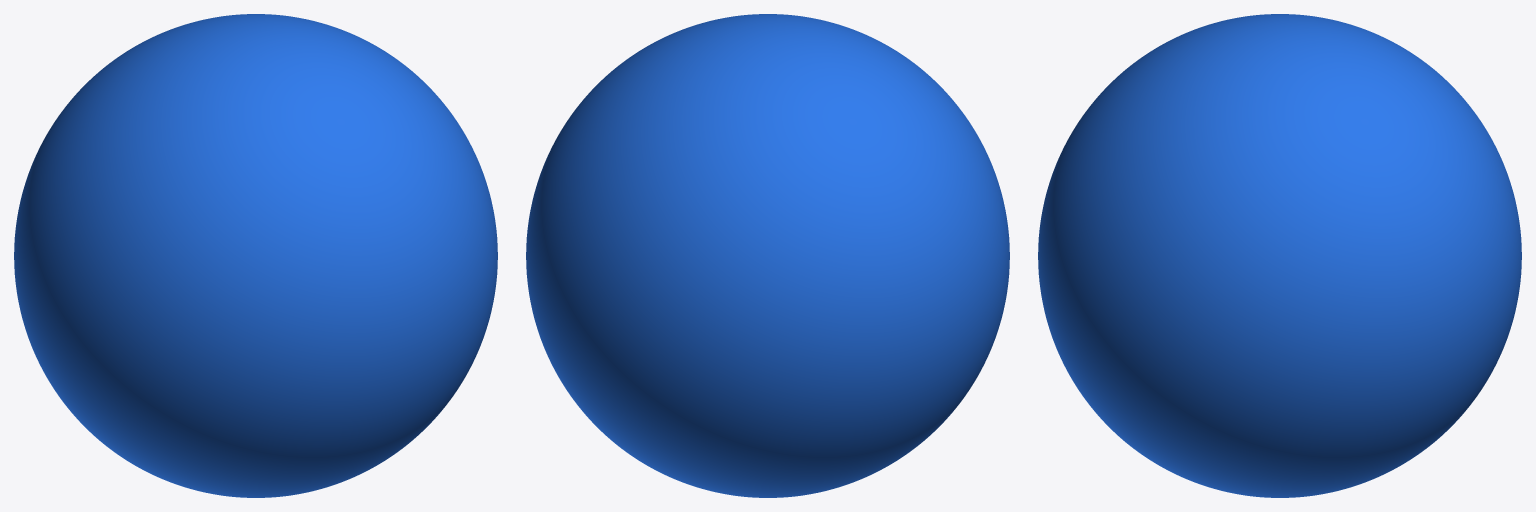
The model's file is ocm-sphere.obj.
3 views of the same model, side by side, from view 1: azimuth 30°, elevation 25°; view 2: azimuth 150°, elevation 25°; view 3: azimuth 270°, elevation 25° (orthographic).
Visible parts, largest first — view 1: Sphere; view 2: Sphere; view 3: Sphere.
Part boxes in pixels (x1,y1,x2,y2): Sphere: (14,14,497,497); Sphere: (526,14,1009,497); Sphere: (1038,14,1521,497).
Bounding box in the file's own units: 0.9988 × 1 × 0.9988.
